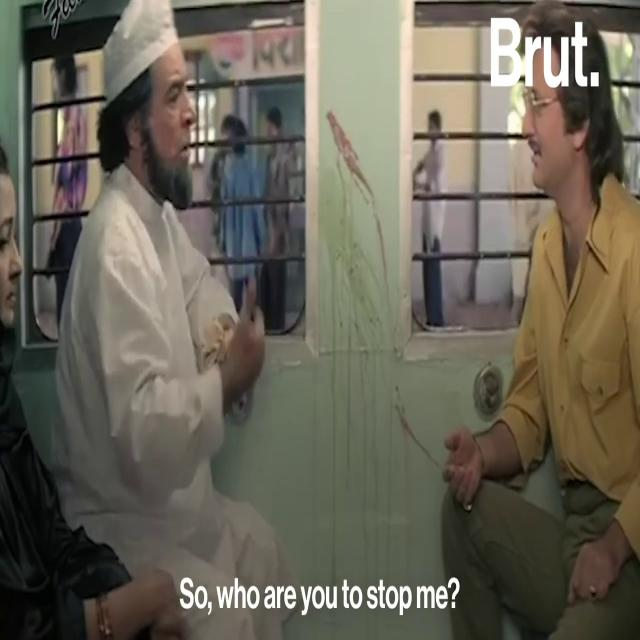spit: (310, 82, 401, 440)
